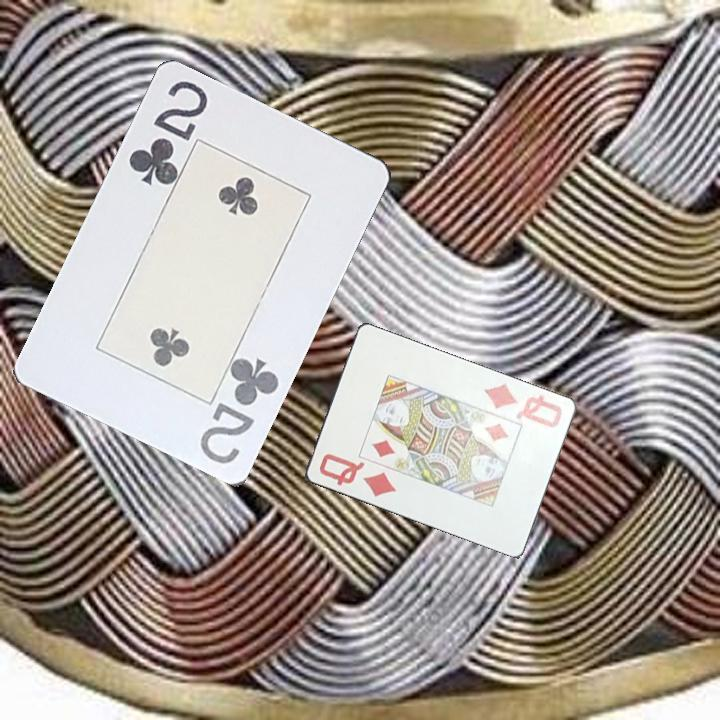2c: (196, 354, 282, 468), (125, 77, 211, 189)
Qd: (480, 380, 565, 431), (315, 450, 398, 500)
